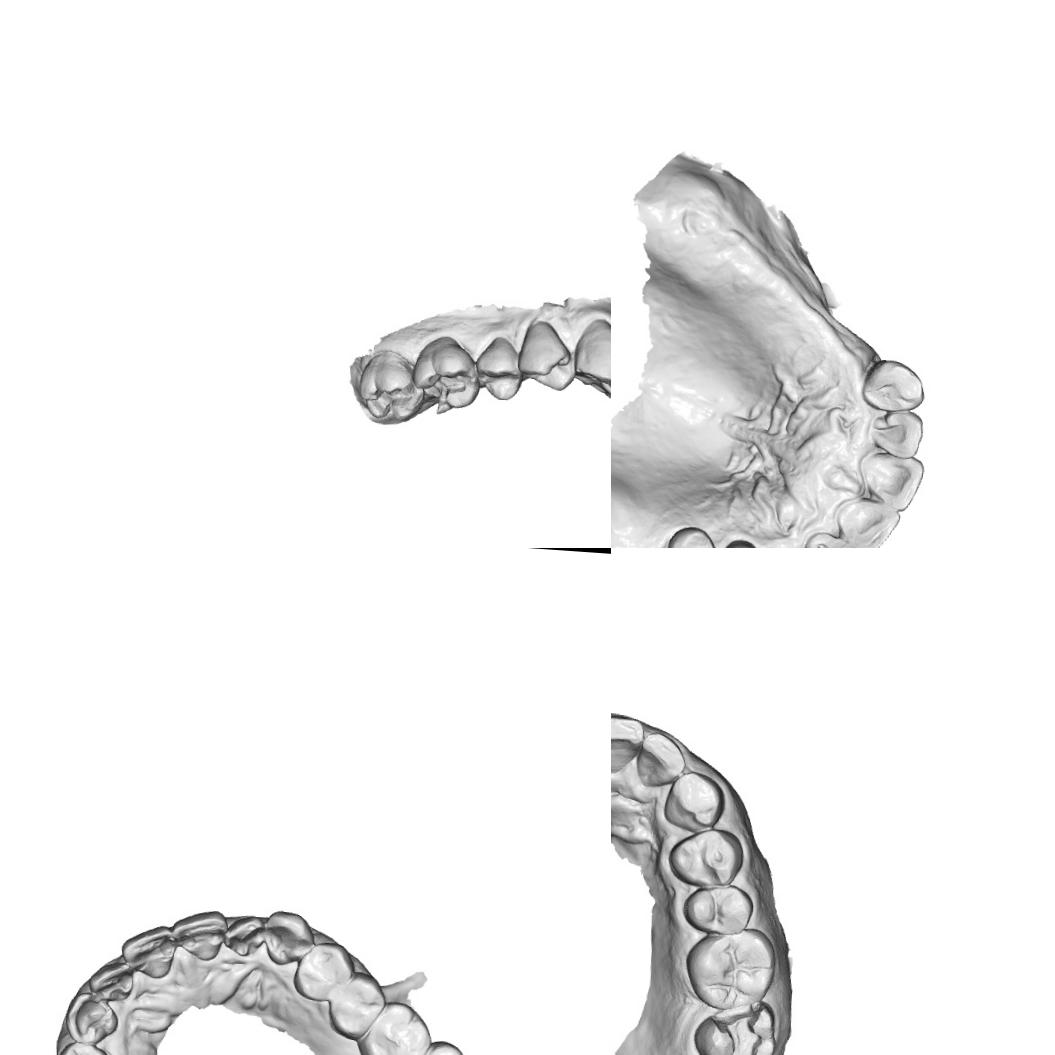canine: (659, 767, 725, 835), (858, 356, 927, 414), (62, 990, 120, 1047), (261, 908, 316, 968), (570, 315, 611, 384)
incisor: (856, 450, 925, 512), (632, 728, 690, 791), (166, 905, 230, 962), (833, 496, 902, 548), (118, 922, 176, 980), (867, 406, 925, 460), (85, 958, 134, 1002), (611, 710, 643, 774), (221, 913, 266, 958), (803, 529, 862, 548)
inlay: (703, 1001, 767, 1055)
molar: (682, 922, 778, 1013), (408, 332, 483, 416), (356, 346, 428, 422), (355, 998, 435, 1055), (401, 1035, 477, 1055)
premolar: (664, 822, 746, 890), (326, 968, 388, 1042), (680, 878, 756, 938), (290, 938, 356, 1004), (472, 334, 526, 401), (516, 318, 574, 379), (662, 522, 723, 548), (51, 1040, 114, 1055)
